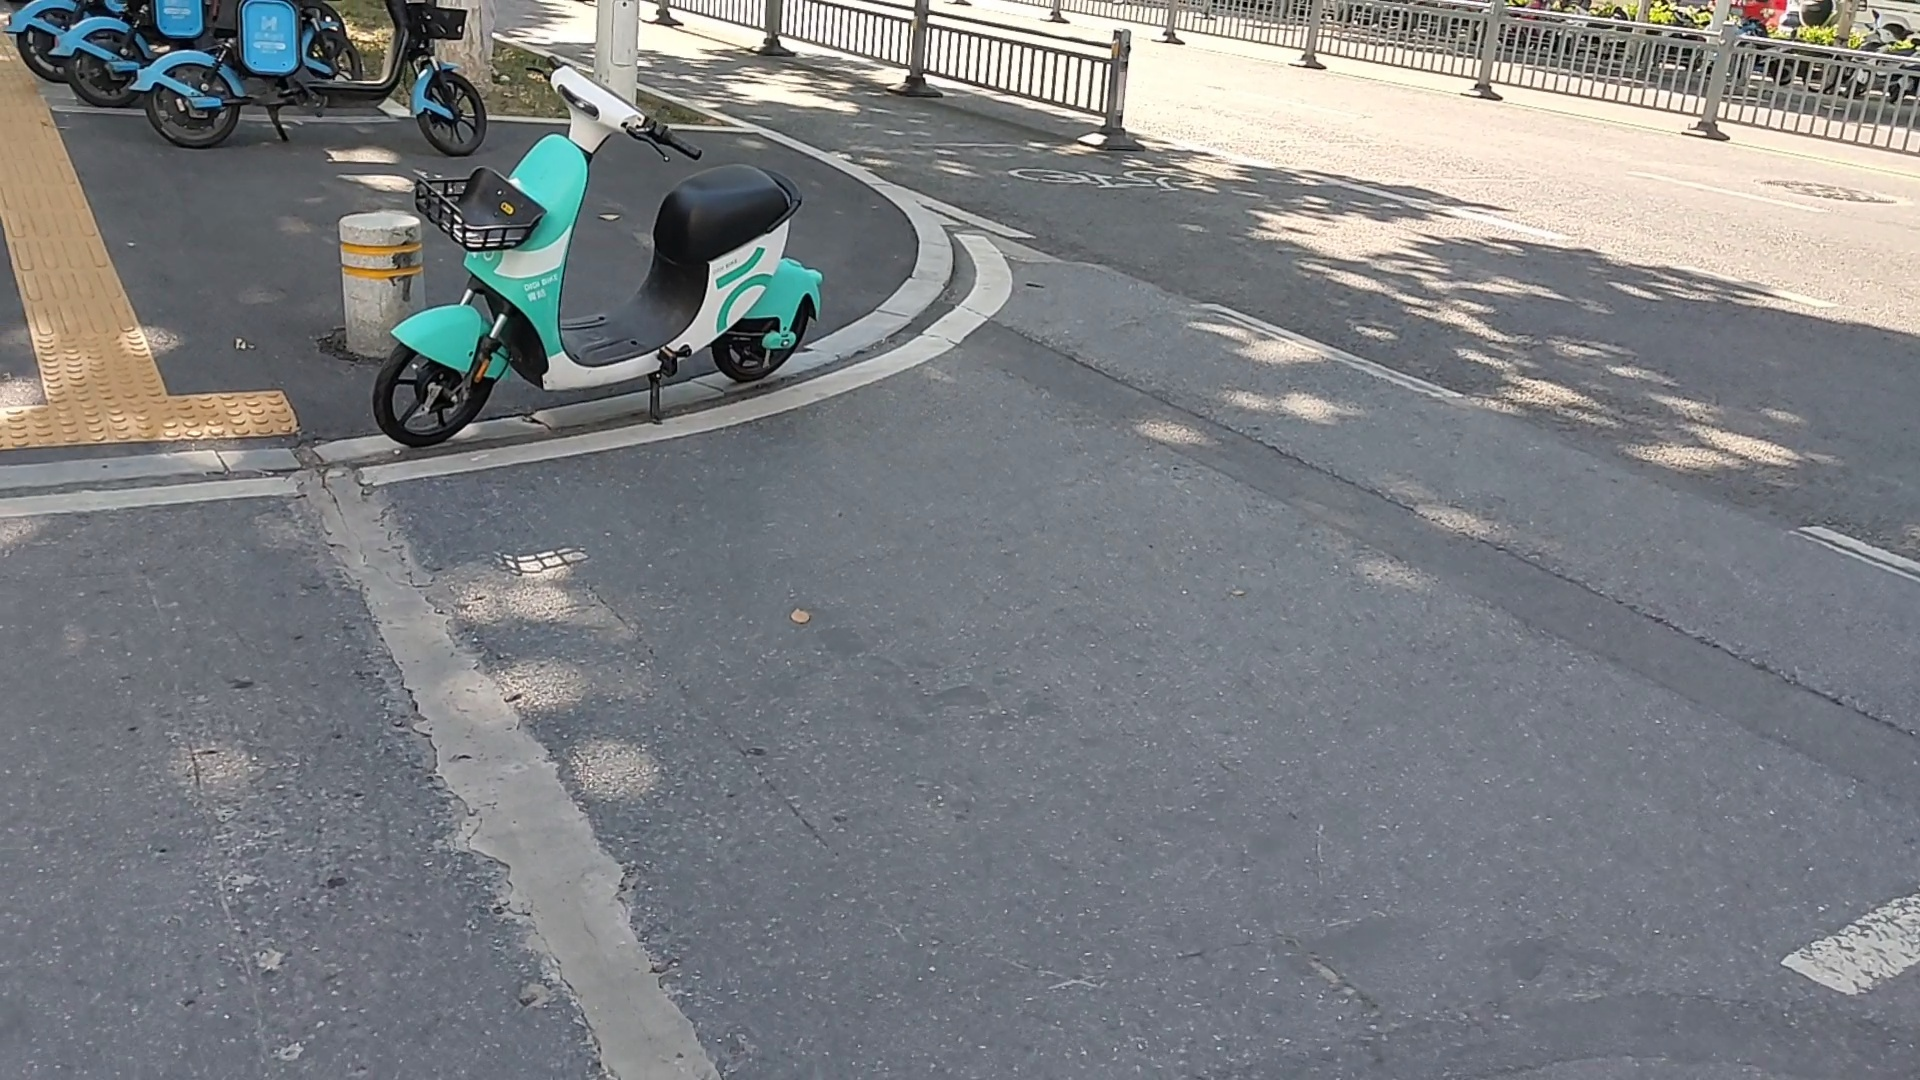non-vehicle: (378, 55, 811, 454), (131, 0, 493, 158), (1, 0, 145, 88)
